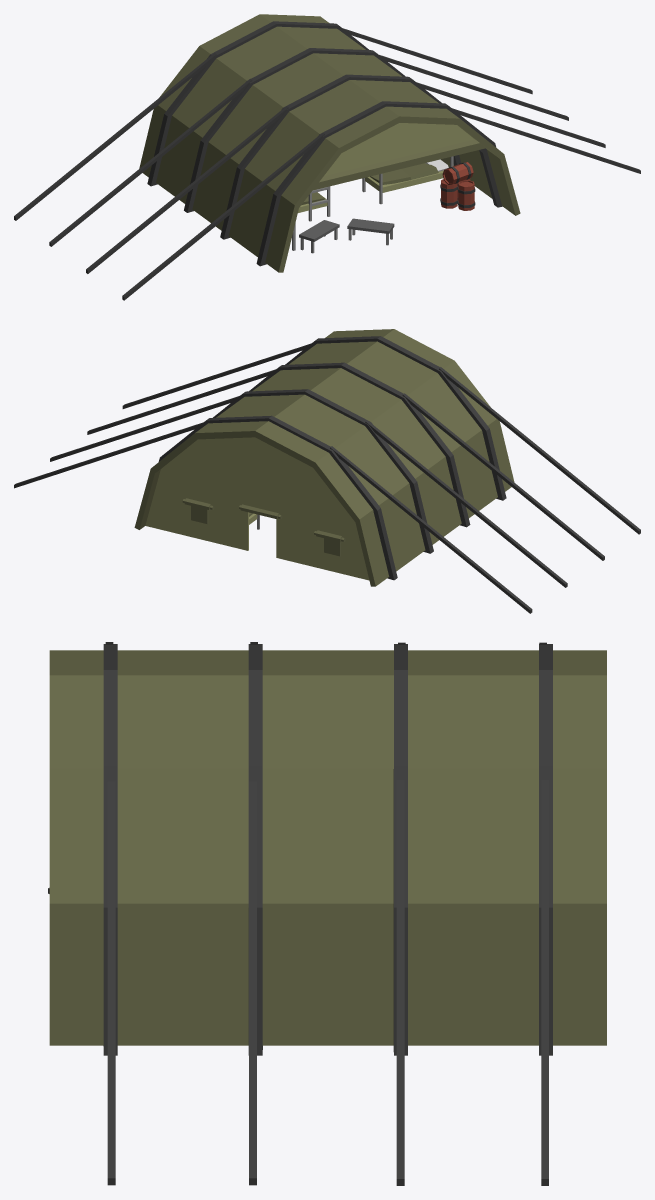
The model's file is MilitaryTent.fbx.
The picture shows the model from 3 angles, top to bottom: view 1: azimuth 30°, elevation 25°; view 2: azimuth 150°, elevation 25°; view 3: azimuth 270°, elevation 25°; orthographic projection. The views are drawn at different scales.
Visible parts, largest first — view 1: Cylinder; view 2: Cylinder; view 3: Cylinder.
Boxes of the visible parts, bbox=[...] form: Cylinder: bbox=[14, 14, 640, 300]; Cylinder: bbox=[14, 329, 640, 613]; Cylinder: bbox=[48, 642, 606, 1185].
Size of the model in its own units: 1886 by 465 by 884.
